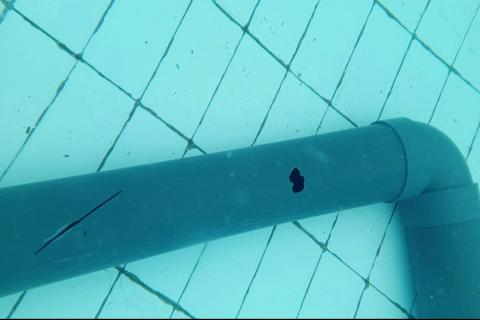kebocoran: (289, 166, 306, 195)
keretakan: (33, 189, 123, 256)
